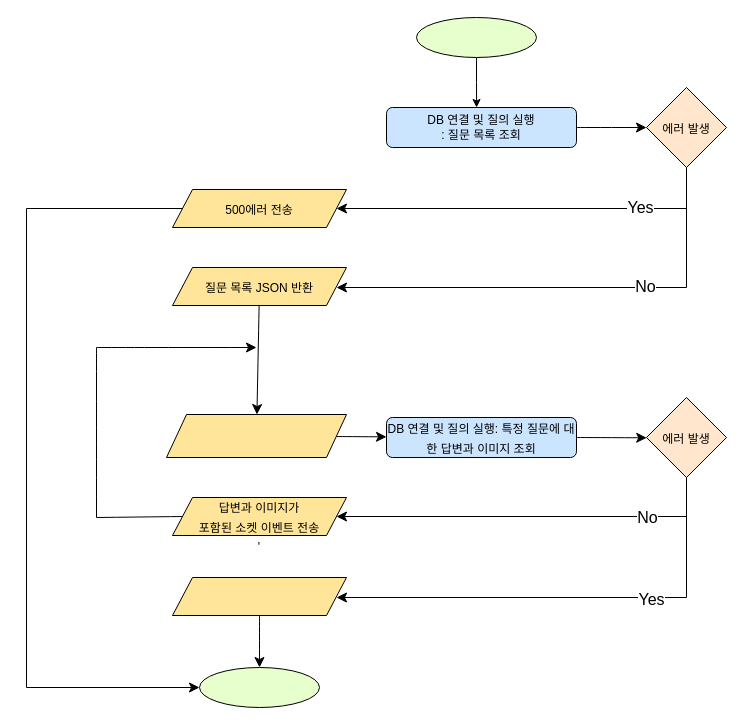
This 744x725 diagram has some shape labels left out. Here are the shapes that lost their labels. From the top down, the centre of each, then its label:
At [476,37]: "시작".
At [256,436]: "소켓을 통해 사용자로부터 메시지 수신".
At [259,596]: "'답변 없음' 소켓 이벤트 전송".
At [259,687]: "종료".
